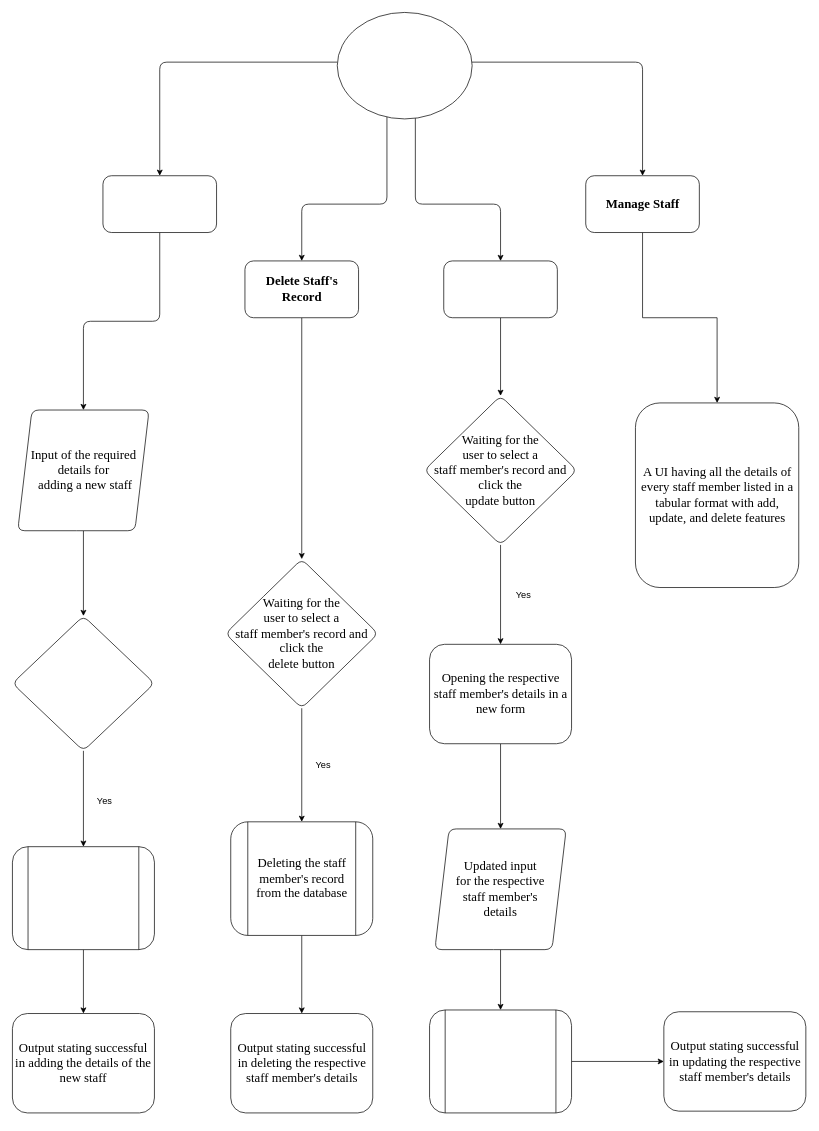
The diagram is 819 pixels wide and 1131 high, and some of its shapes have lost their labels. The box of each missing label's shape, as (x1, y1, x2, y2) in pixels:
Add New Staff: (102, 175, 217, 233)
Staff: (337, 12, 472, 119)
Storing the details of the new staff in the database: (12, 846, 154, 950)
Update Staff's Record: (443, 260, 557, 318)
Updating the details of the respective staff member in the database.: (429, 1009, 572, 1113)
Waiting for the user to click the save button: (12, 615, 154, 751)
